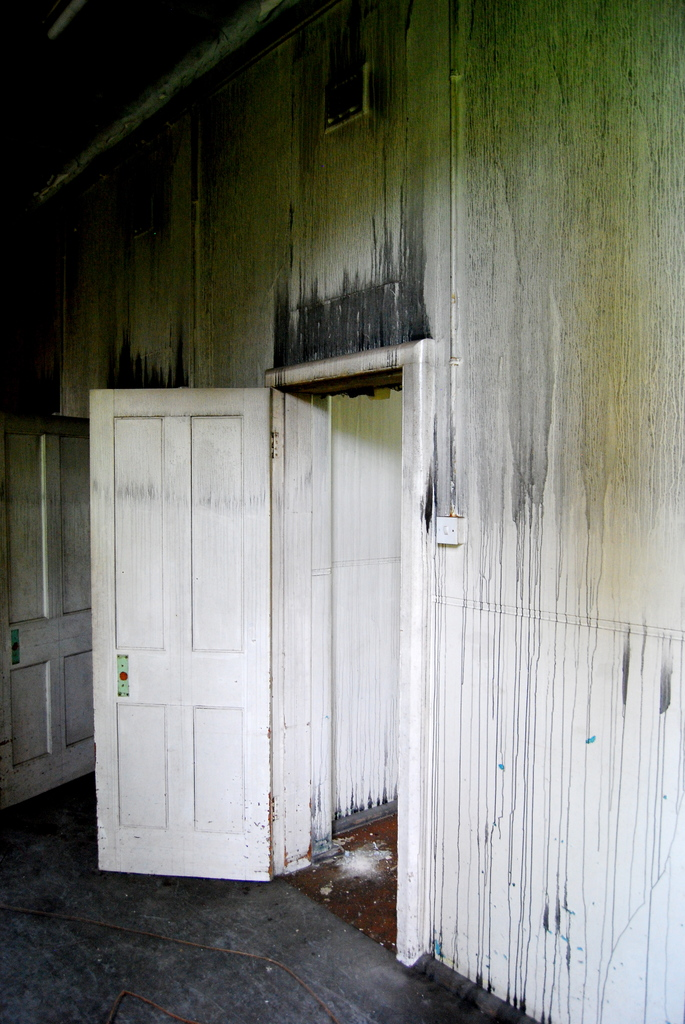door: (94, 393, 273, 873), (6, 439, 88, 782)
